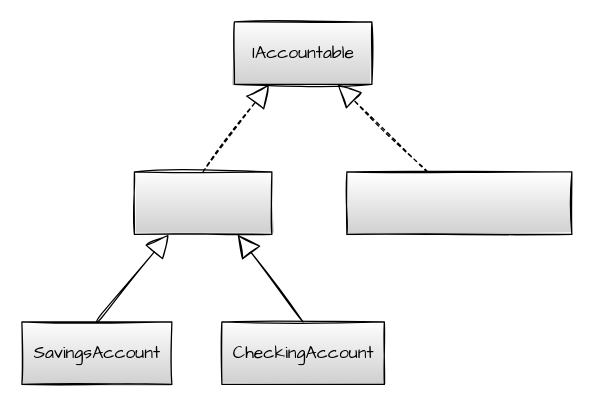
This 594x406 diagram has some shape labels left out. The shapes that lost their labels are listed below. From the top down, each one's centre as x and y in pixels, then its label:
point (202, 202): BankAccount
point (459, 202): CreditCardAccount
